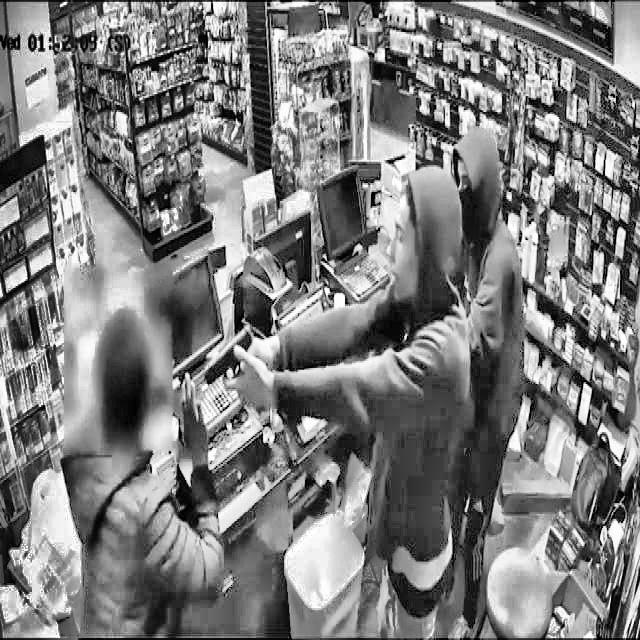pistol: (198, 319, 262, 402)
robbery: (65, 127, 531, 639)
